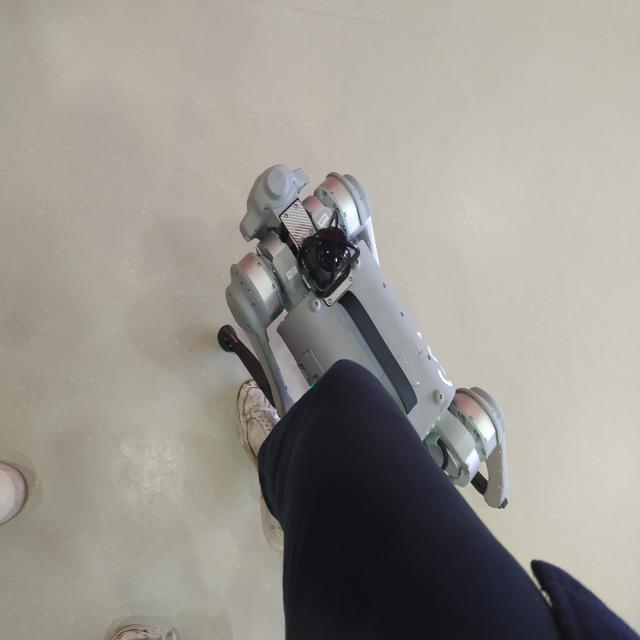unitree-go1-robot: (225, 155, 523, 543)
